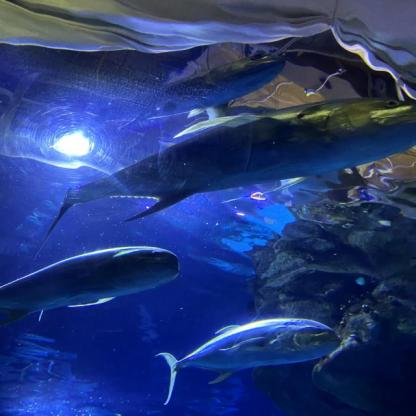fish: (34, 97, 416, 222), (156, 318, 339, 404), (0, 246, 179, 327)
